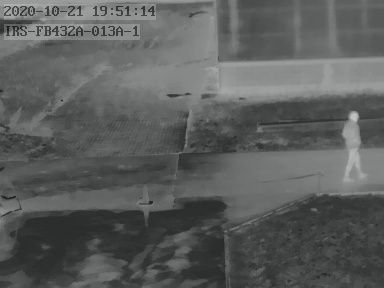person: (341, 109, 367, 181)
